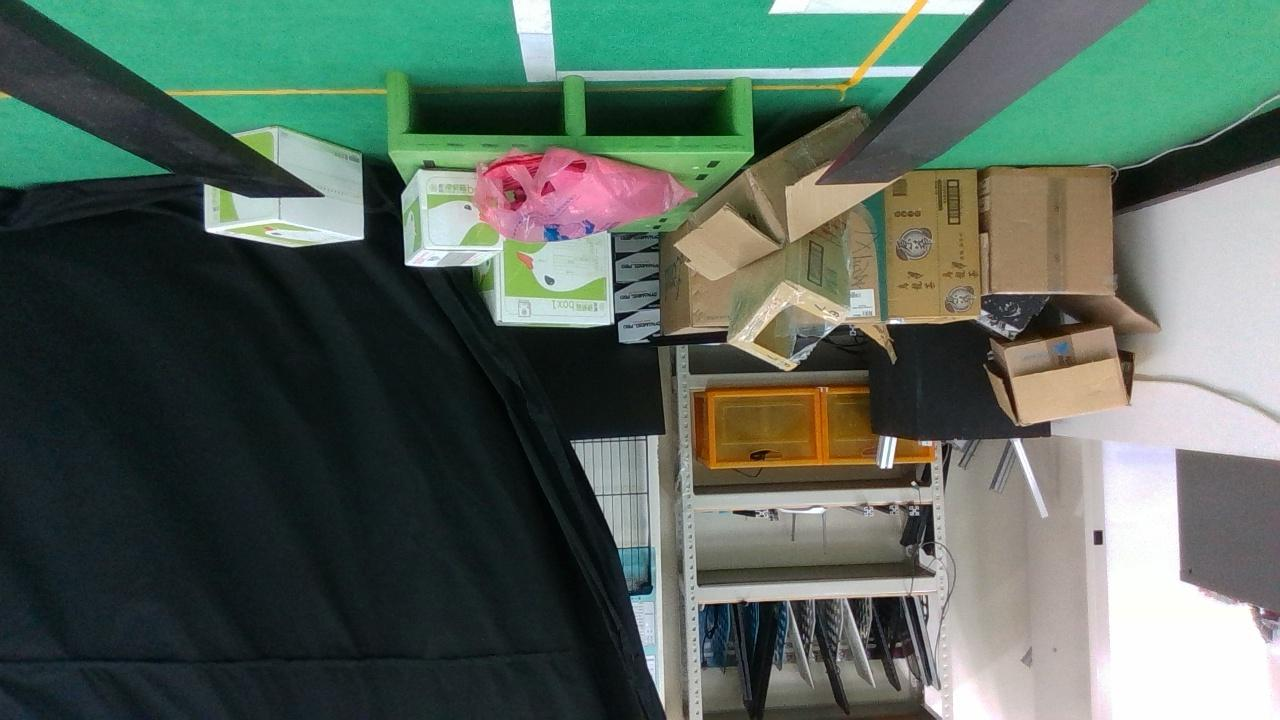Pallet: (383, 72, 752, 157)
